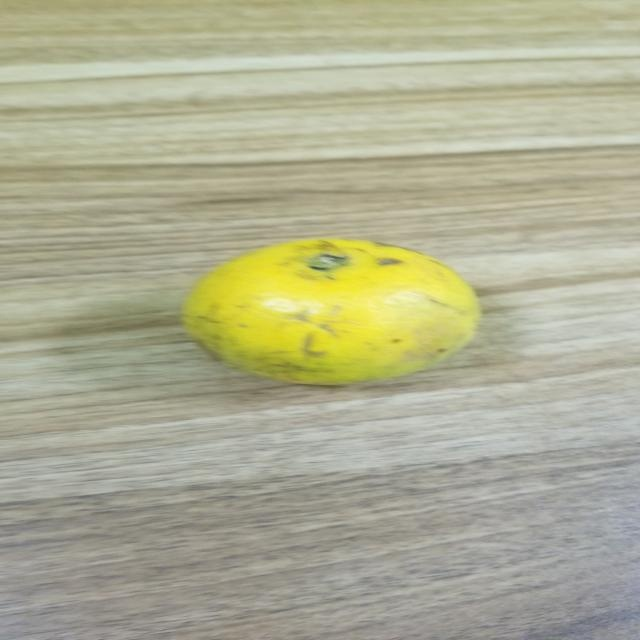agrume: (166, 233, 490, 397)
